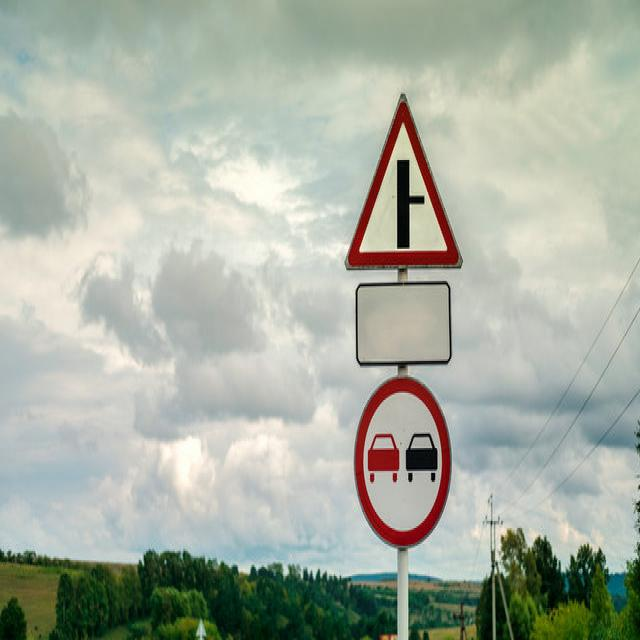no overtaking: (352, 373, 456, 553)
